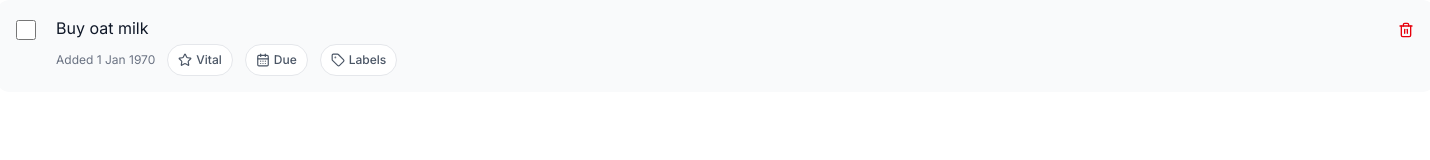
Test: typing while a save is in flight › keeps the inline editor open with the newer text when a save finishes
Click the button named "Edit \"Buy oat milk\"" at (102, 28), box [56,16,1376,40]
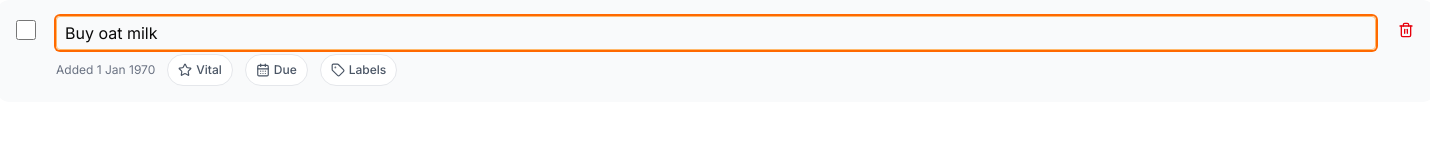
Type " and bread" into the field at (716, 33), box [56,16,1376,50]
Then press Enter
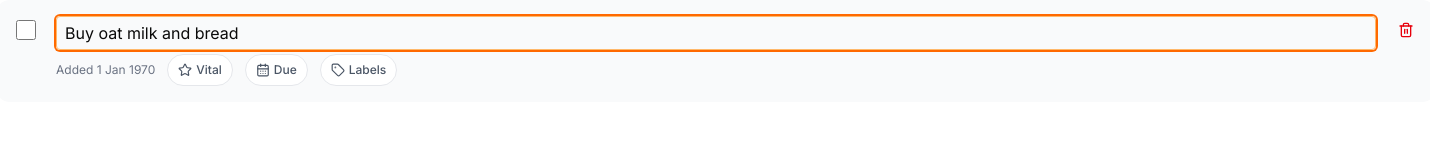
Still typing while the first save is in flight.
Type " and eggs" into the field at (716, 33), box [56,16,1376,50]
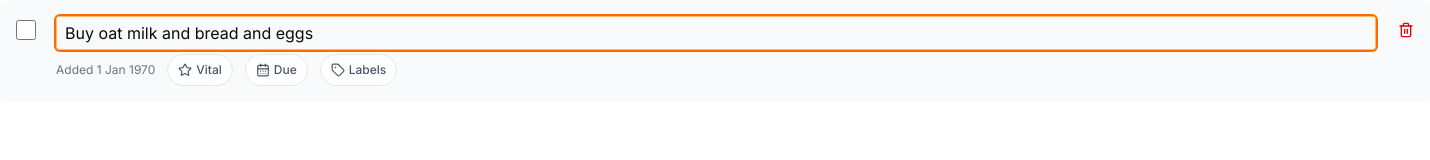
expect the field holds "Buy oat milk and bread and eggs": met, box [56,16,1376,50]
